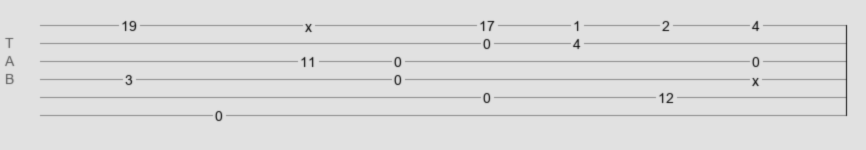0: (215, 108, 223, 118), (394, 72, 402, 82), (394, 54, 402, 64), (483, 90, 491, 100), (483, 36, 491, 46), (752, 54, 760, 64)
1: (573, 18, 581, 28)
11: (300, 54, 316, 64)
12: (658, 90, 674, 100)
17: (479, 18, 495, 28)
19: (121, 18, 137, 28)
2: (662, 18, 670, 28)
3: (125, 72, 133, 82)
4: (573, 36, 581, 46), (752, 18, 760, 28)
x: (305, 19, 312, 27), (752, 73, 759, 81)
